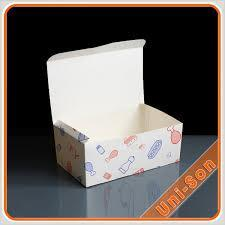box: (47, 39, 183, 188)
